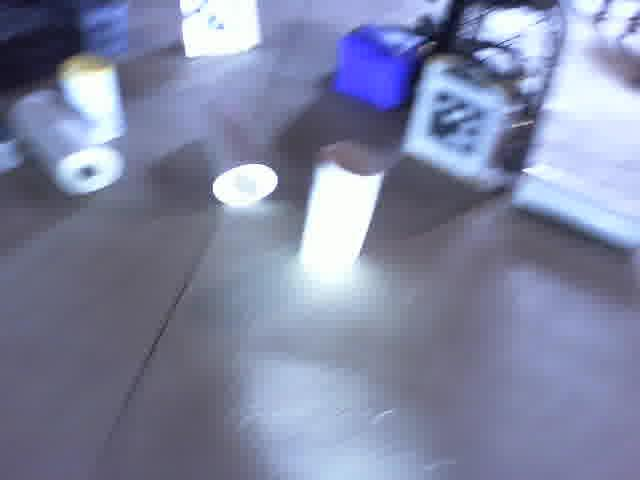coral: (297, 132, 391, 283), (183, 88, 289, 209), (53, 48, 125, 157)
